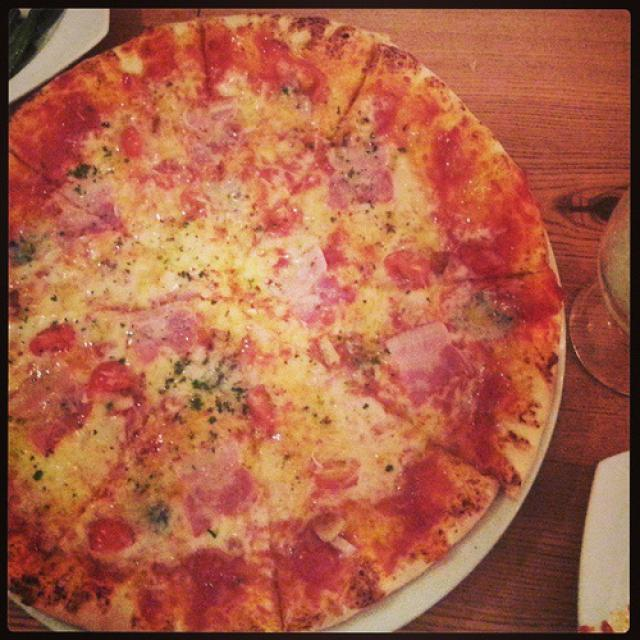Wet Waste: (9, 12, 567, 629)
